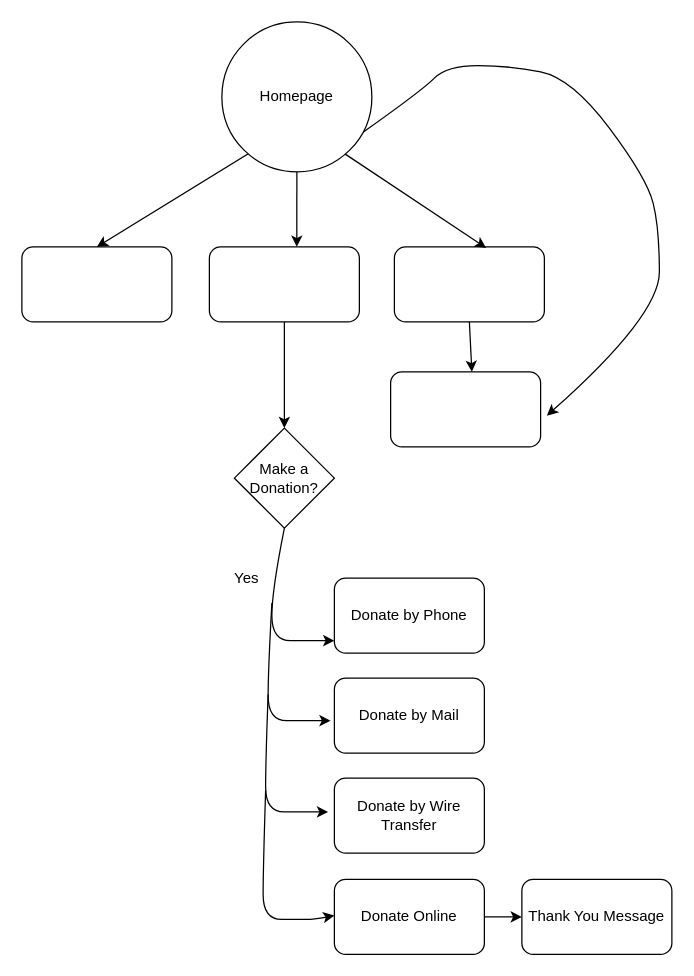
The diagram is 694 pixels wide and 976 high, and some of its shapes have lost their labels. Here are the shapes that lost their labels. From the top down, the box of each, then its label:
(21, 246, 172, 322): Our Work
(208, 246, 359, 322): Get Involved
(393, 246, 544, 322): About Us
(389, 371, 541, 447): Contact Us
